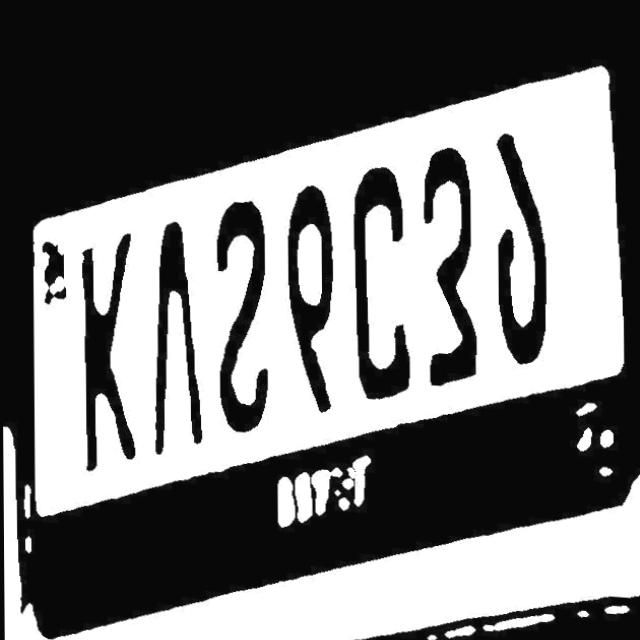3: (417, 141, 493, 388)
6: (285, 173, 346, 415)
9: (496, 117, 563, 365)
c: (347, 158, 426, 400)
k: (71, 228, 147, 490)
s: (217, 191, 288, 439)
v: (137, 213, 217, 472)
